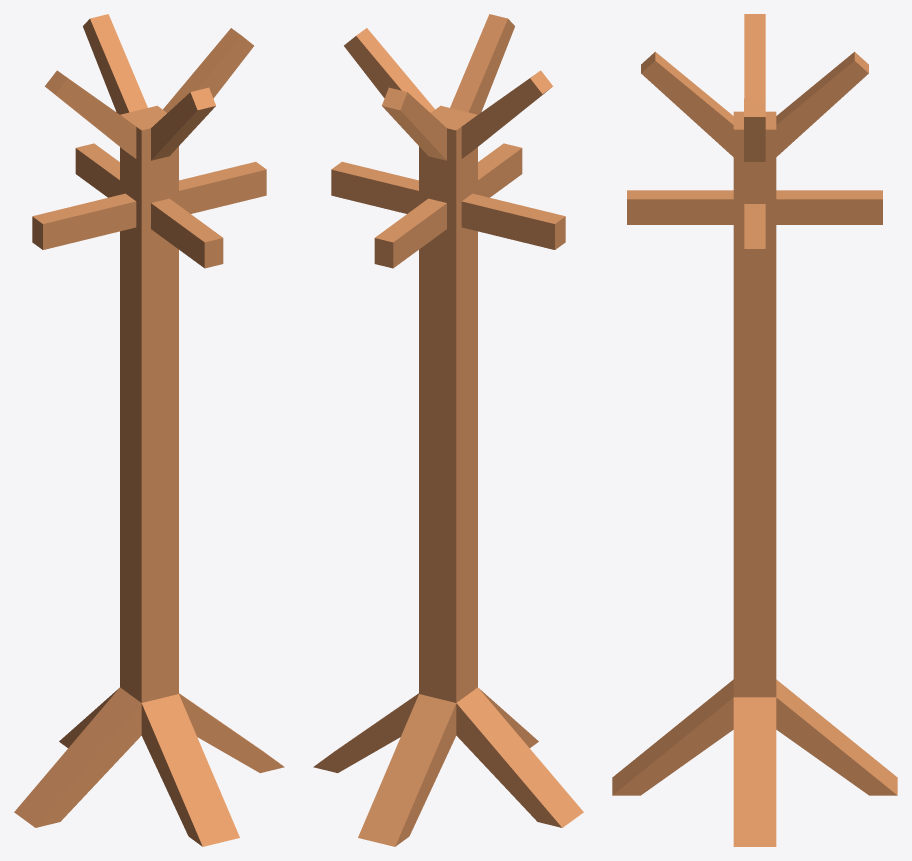
File: furniture-coatRack.glb
3 renders of one model, left to right at view 1: azimuth 30°, elevation 25°; view 2: azimuth 150°, elevation 25°; view 3: azimuth 270°, elevation 25°, orthographic.
Parts seen in each view (by area): view 1: coatRackStanding; view 2: coatRackStanding; view 3: coatRackStanding.
Part boxes in pixels (x1,y1,x2,y2): coatRackStanding: (14, 14, 284, 846); coatRackStanding: (313, 14, 583, 846); coatRackStanding: (612, 14, 897, 846).
Bounding box in the file's own units: 1.09 × 3.08 × 1.09.
